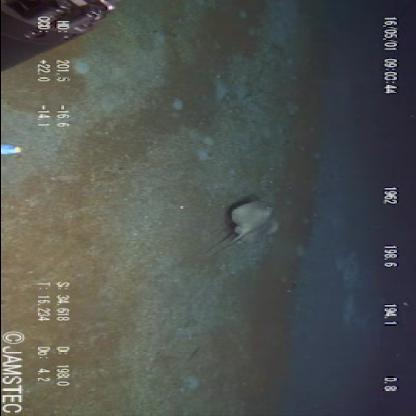Bio: (209, 197, 282, 256)
